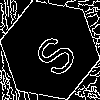S: (25, 25, 80, 81)
